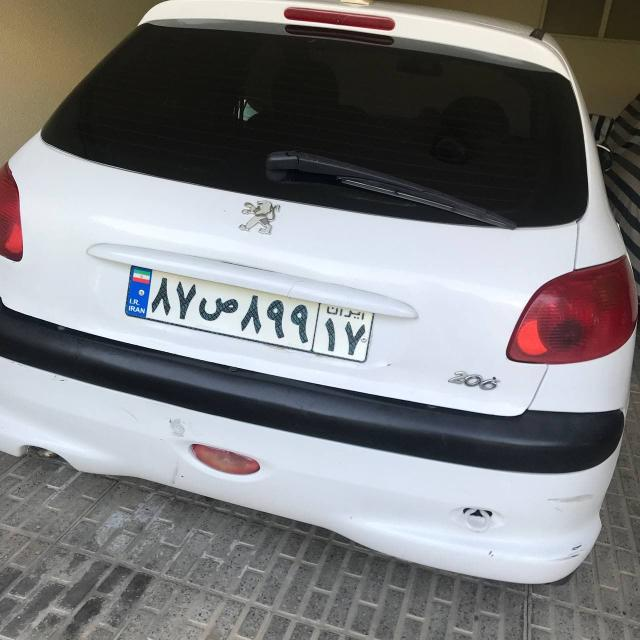Plates: (122, 265, 375, 363)
